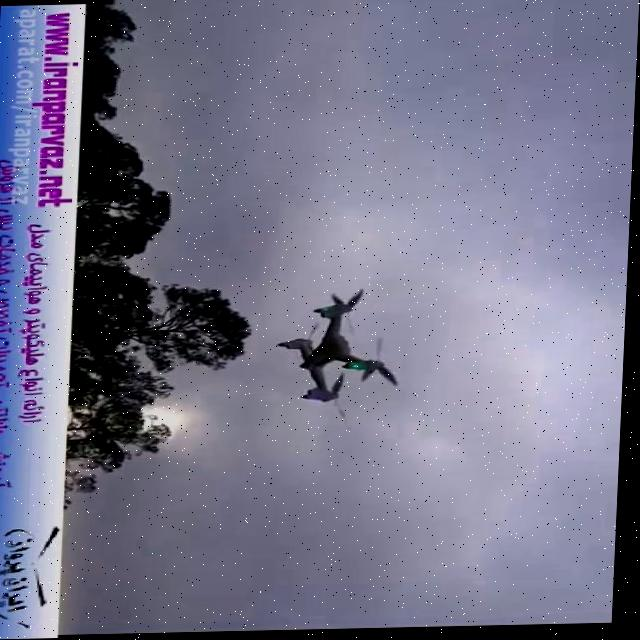drone: (273, 287, 413, 432)
